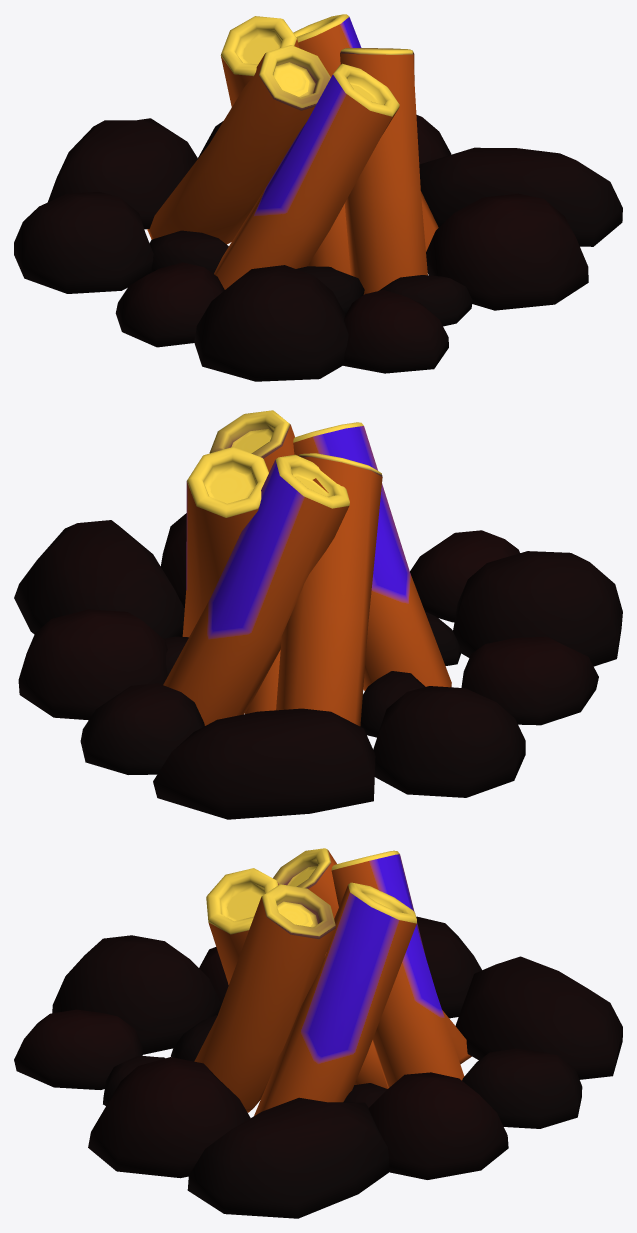
File: Fire.fbx
3 renders of one model, top to bottom at view 1: azimuth 30°, elevation 25°; view 2: azimuth 150°, elevation 25°; view 3: azimuth 270°, elevation 25°, orthographic. The views are drawn at different scales.
Parts seen in each view (by area): view 1: Campfire_1; view 2: Campfire_1; view 3: Campfire_1.
Boxes of the visible parts, x1,y1,x2,y2 form: Campfire_1: (14,14,622,381); Campfire_1: (14,410,622,819); Campfire_1: (14,848,622,1218).
Size of the model in its own units: 177 by 75.05 by 179.
